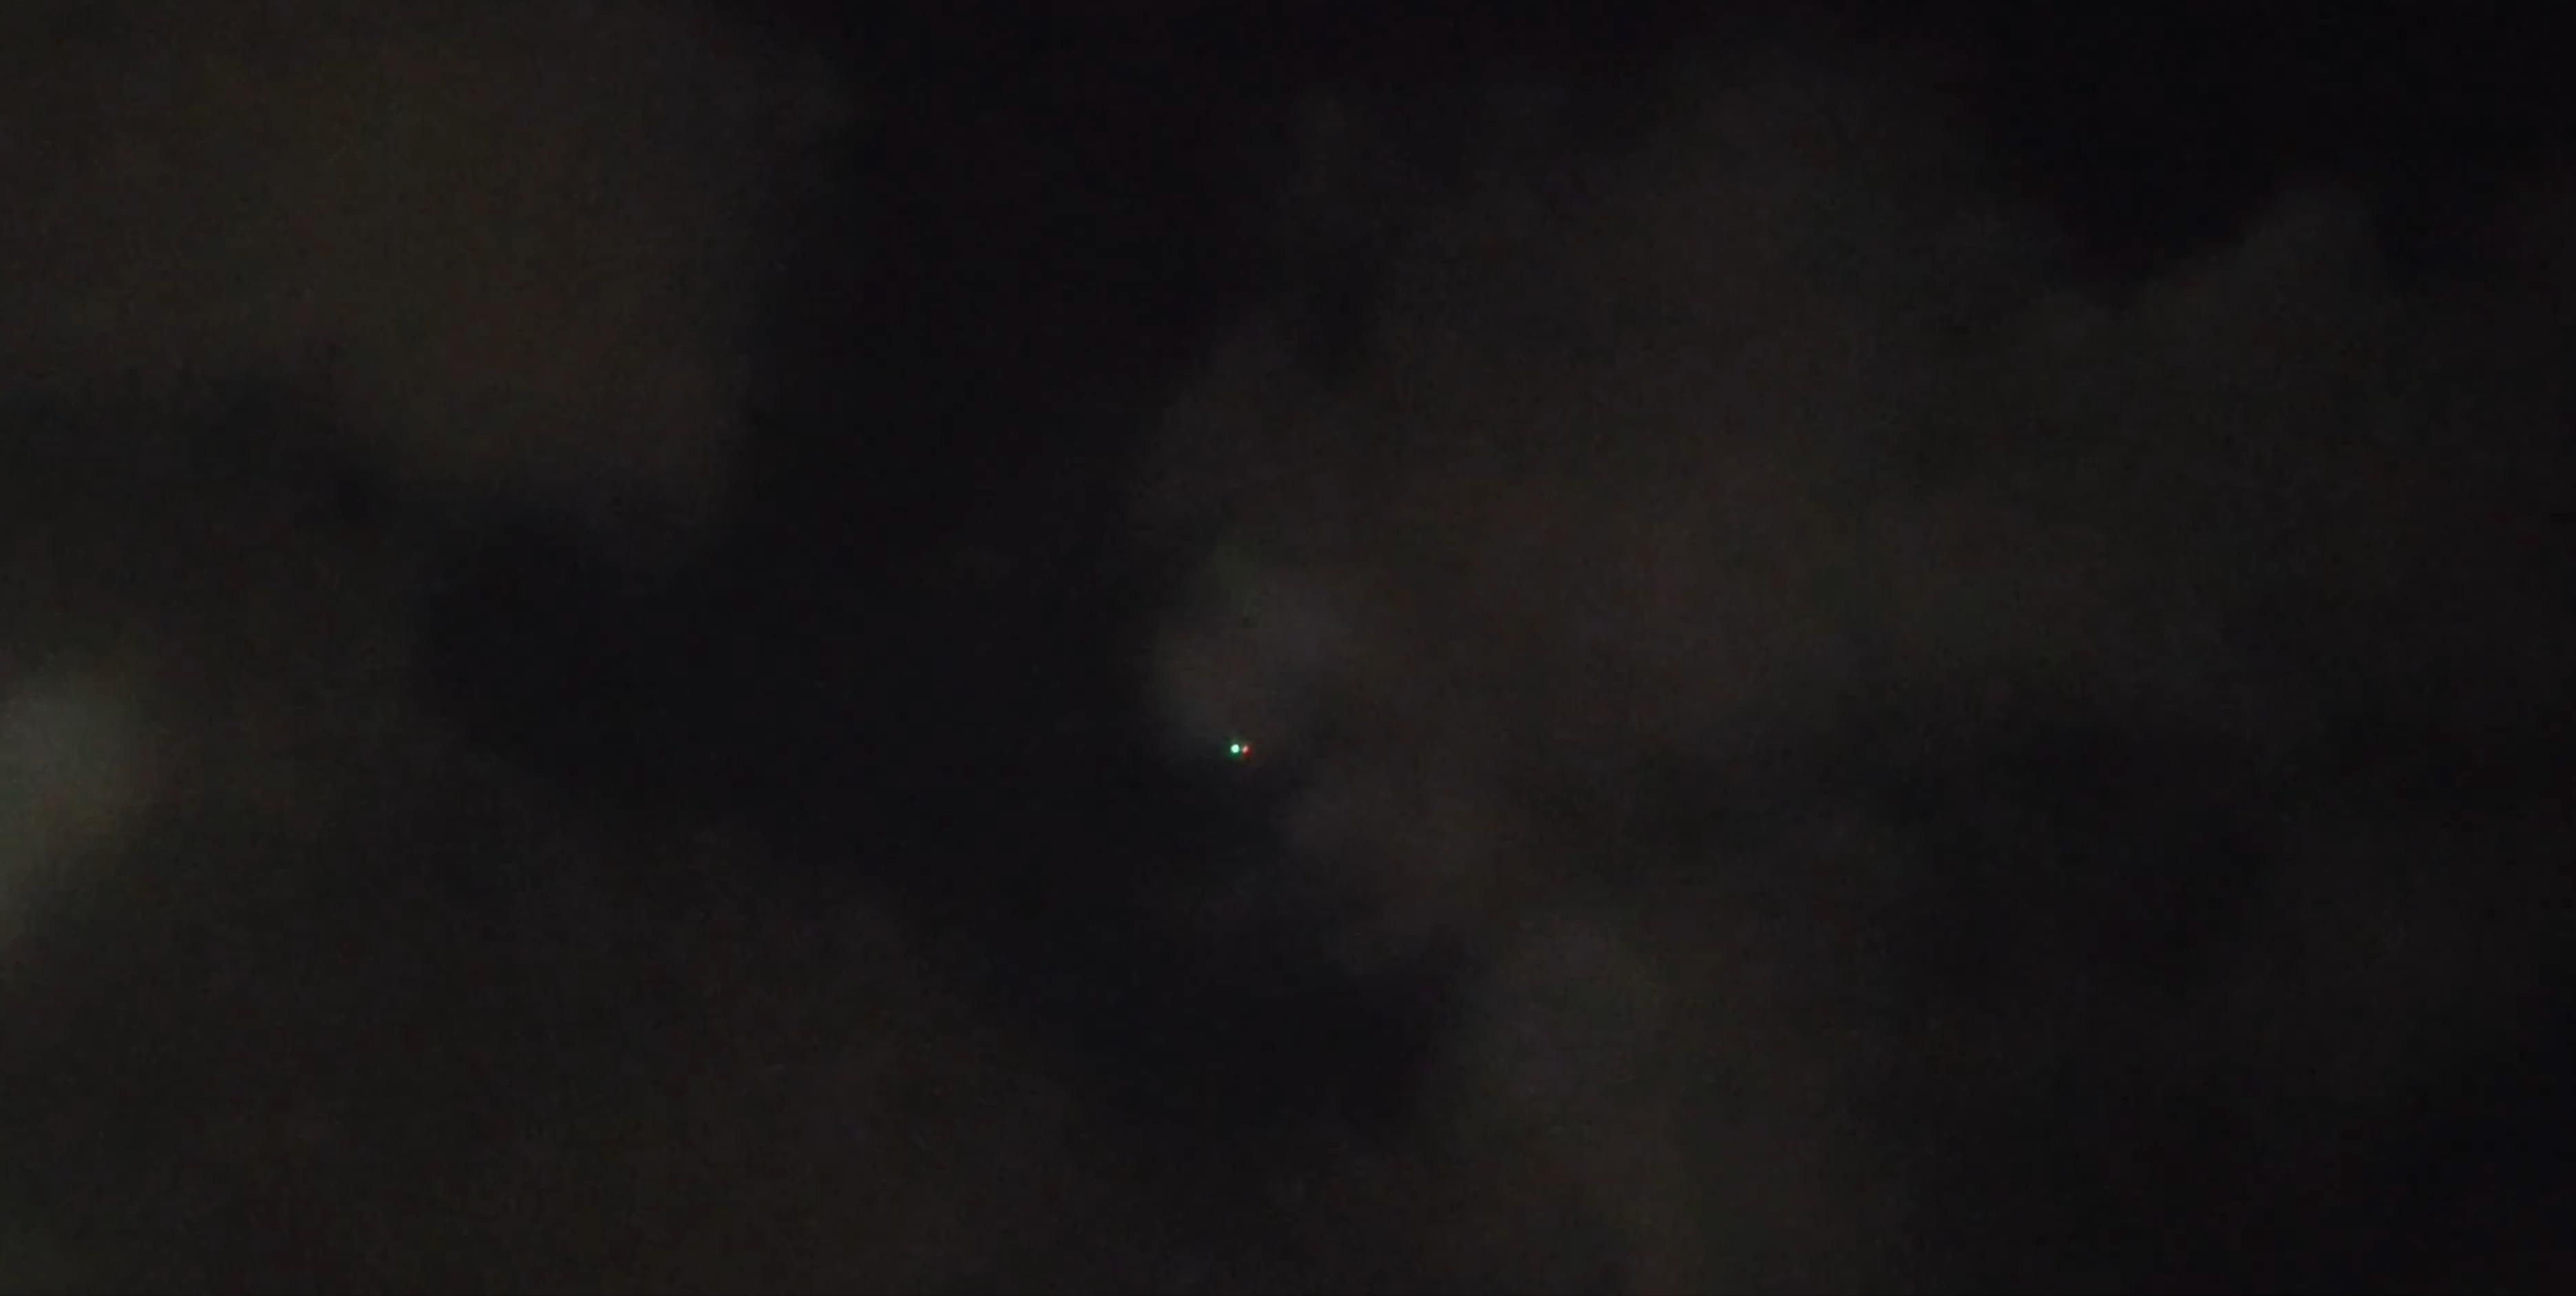Plane: (1210, 727, 1262, 769)
